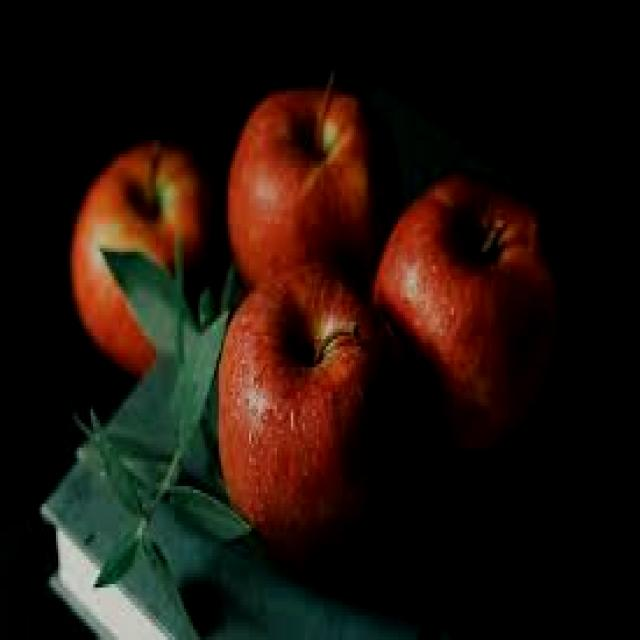wet: (398, 165, 565, 468)
